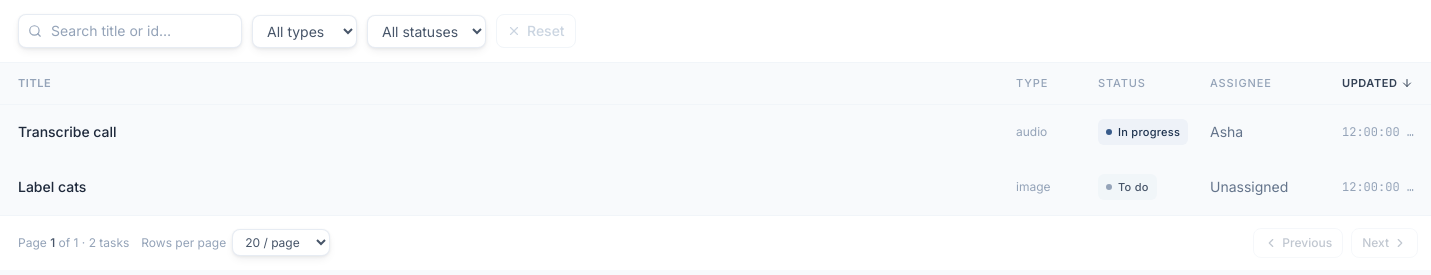
it: <TaskList /> filtering › filters by search text across title
The width and height of the screenshot is (1431, 275).
Type "cats" into the field named "Search tasks".
click(130, 31); type("cats")  # box [18,14,242,48]
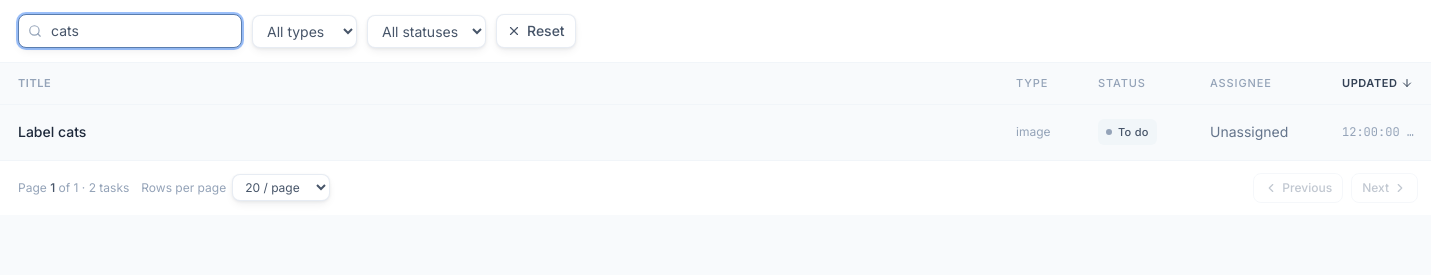
Expected: the text "Label cats" is shown, [18,122,86,140]
Result: the button "Transcribe call" is gone
